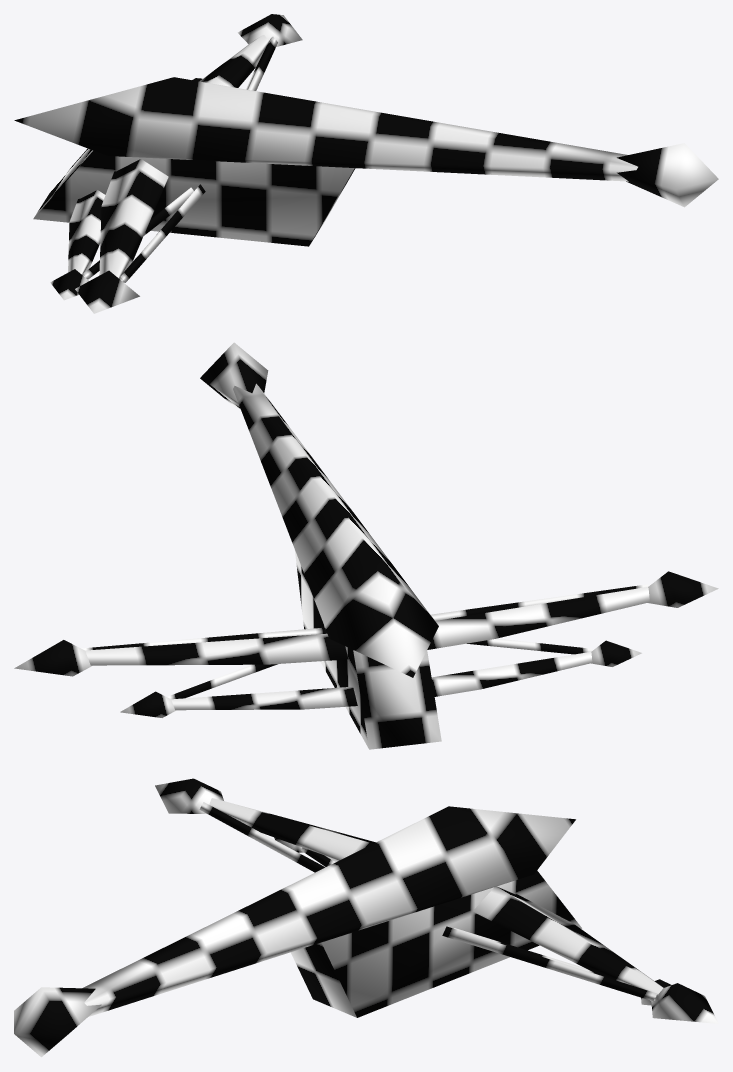
Rendered from initwecb3.dae.
3 renders of one model, top to bottom at view 1: azimuth 30°, elevation 25°; view 2: azimuth 150°, elevation 25°; view 3: azimuth 270°, elevation 25°, orthographic. The views are drawn at different scales.
Parts seen in each view (by area): view 1: weapon; view 2: weapon; view 3: weapon.
Boxes of the visible parts, x1,y1,x2,y2 form: weapon: [14, 14, 718, 313]; weapon: [14, 342, 718, 749]; weapon: [14, 778, 718, 1057].
Size of the model in its own units: 1.9 by 1.9 by 0.4587.
1 material, 1 textured.
